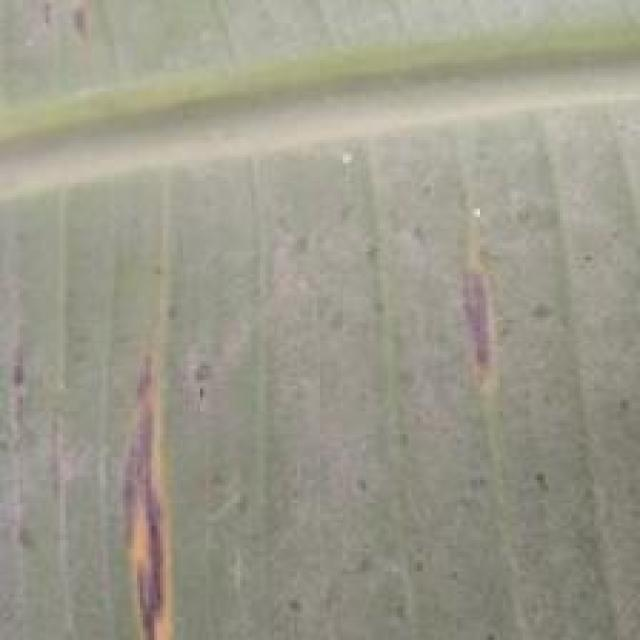Early_leaf_spot: (110, 344, 204, 634), (0, 335, 79, 564), (437, 235, 512, 388), (18, 0, 107, 66)
